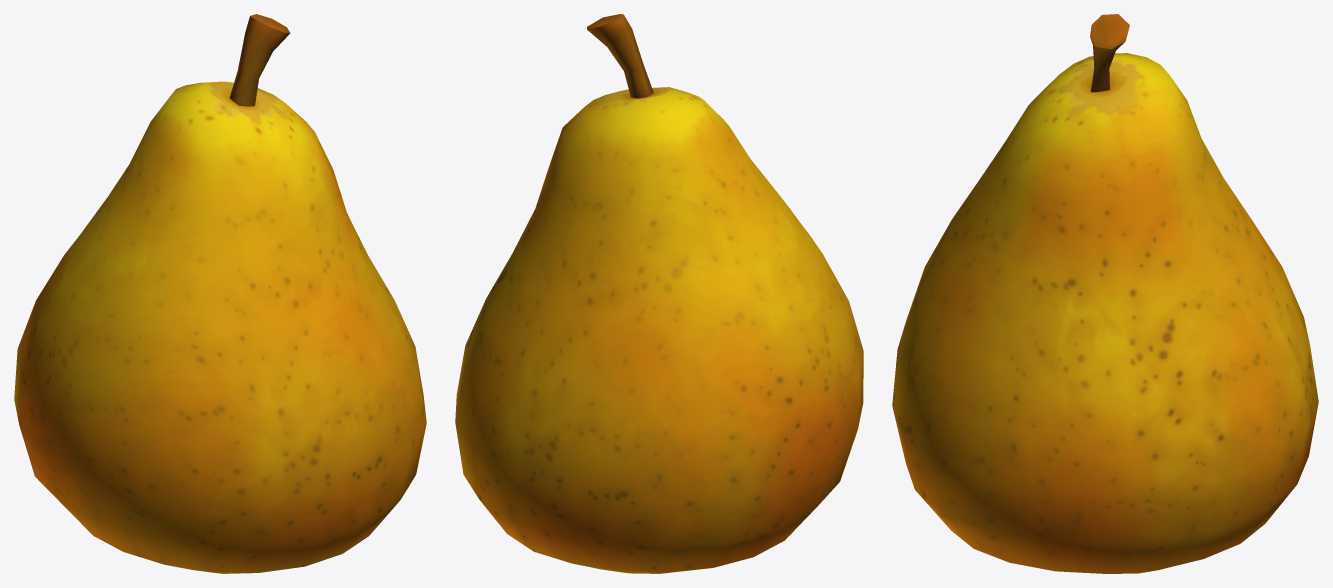
The model's file is SM_PearYellow.fbx.
3 renders of one model, left to right at view 1: azimuth 30°, elevation 25°; view 2: azimuth 150°, elevation 25°; view 3: azimuth 270°, elevation 25°, orthographic. The views are drawn at different scales.
Visible parts, largest first — view 1: SM_PearYellow; view 2: SM_PearYellow; view 3: SM_PearYellow.
Part boxes in pixels (box(x1,y1,x2,y2)): SM_PearYellow: box(14, 14, 426, 573); SM_PearYellow: box(455, 14, 863, 573); SM_PearYellow: box(892, 14, 1318, 573).
Size of the model in its own units: 13.47 by 18.63 by 13.34.
